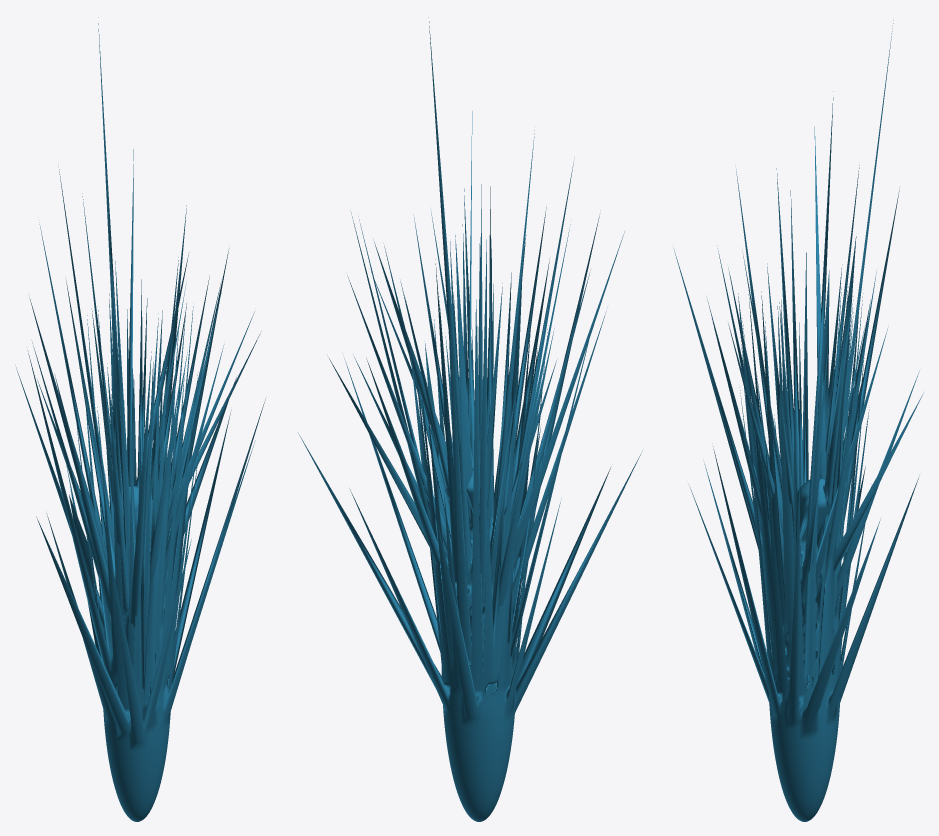
File: kuzira_sio00.obj
3 views of the same model, side by side, from view 1: azimuth 30°, elevation 25°; view 2: azimuth 150°, elevation 25°; view 3: azimuth 270°, elevation 25° (orthographic). The views are drawn at different scales.
Visible parts, largest first — view 1: pSphere3; view 2: pSphere3; view 3: pSphere3.
Part boxes in pixels (box(x1,y1,x2,y2)): pSphere3: box(16, 17, 265, 821); pSphere3: box(298, 17, 642, 821); pSphere3: box(673, 20, 922, 821).
Bounding box in the file's own units: 2.08 × 5.95 × 1.69.
